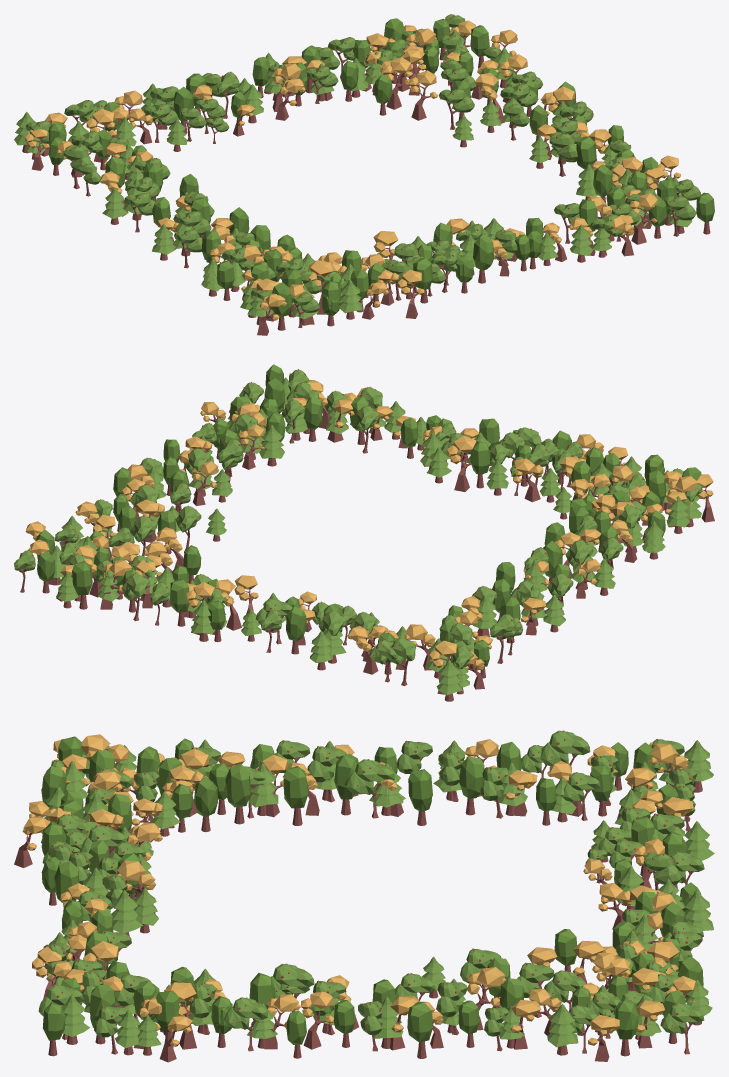
File: pohon.fbx
3 renders of one model, top to bottom at view 1: azimuth 30°, elevation 25°; view 2: azimuth 150°, elevation 25°; view 3: azimuth 270°, elevation 25°, orthographic. The views are drawn at different scales.
Visible parts, largest first — view 1: Pohon-pohon; view 2: Pohon-pohon; view 3: Pohon-pohon.
Boxes of the visible parts, x1,y1,x2,y2 form: Pohon-pohon: [14, 14, 714, 335]; Pohon-pohon: [14, 364, 714, 701]; Pohon-pohon: [14, 730, 714, 1062].
Bounding box in the file's own units: 7986 × 864 × 8080.
